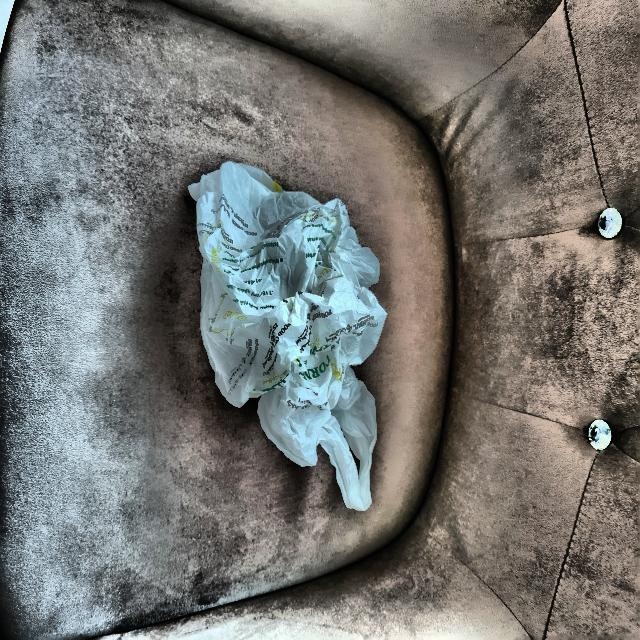plastic bag: (185, 154, 390, 515)
